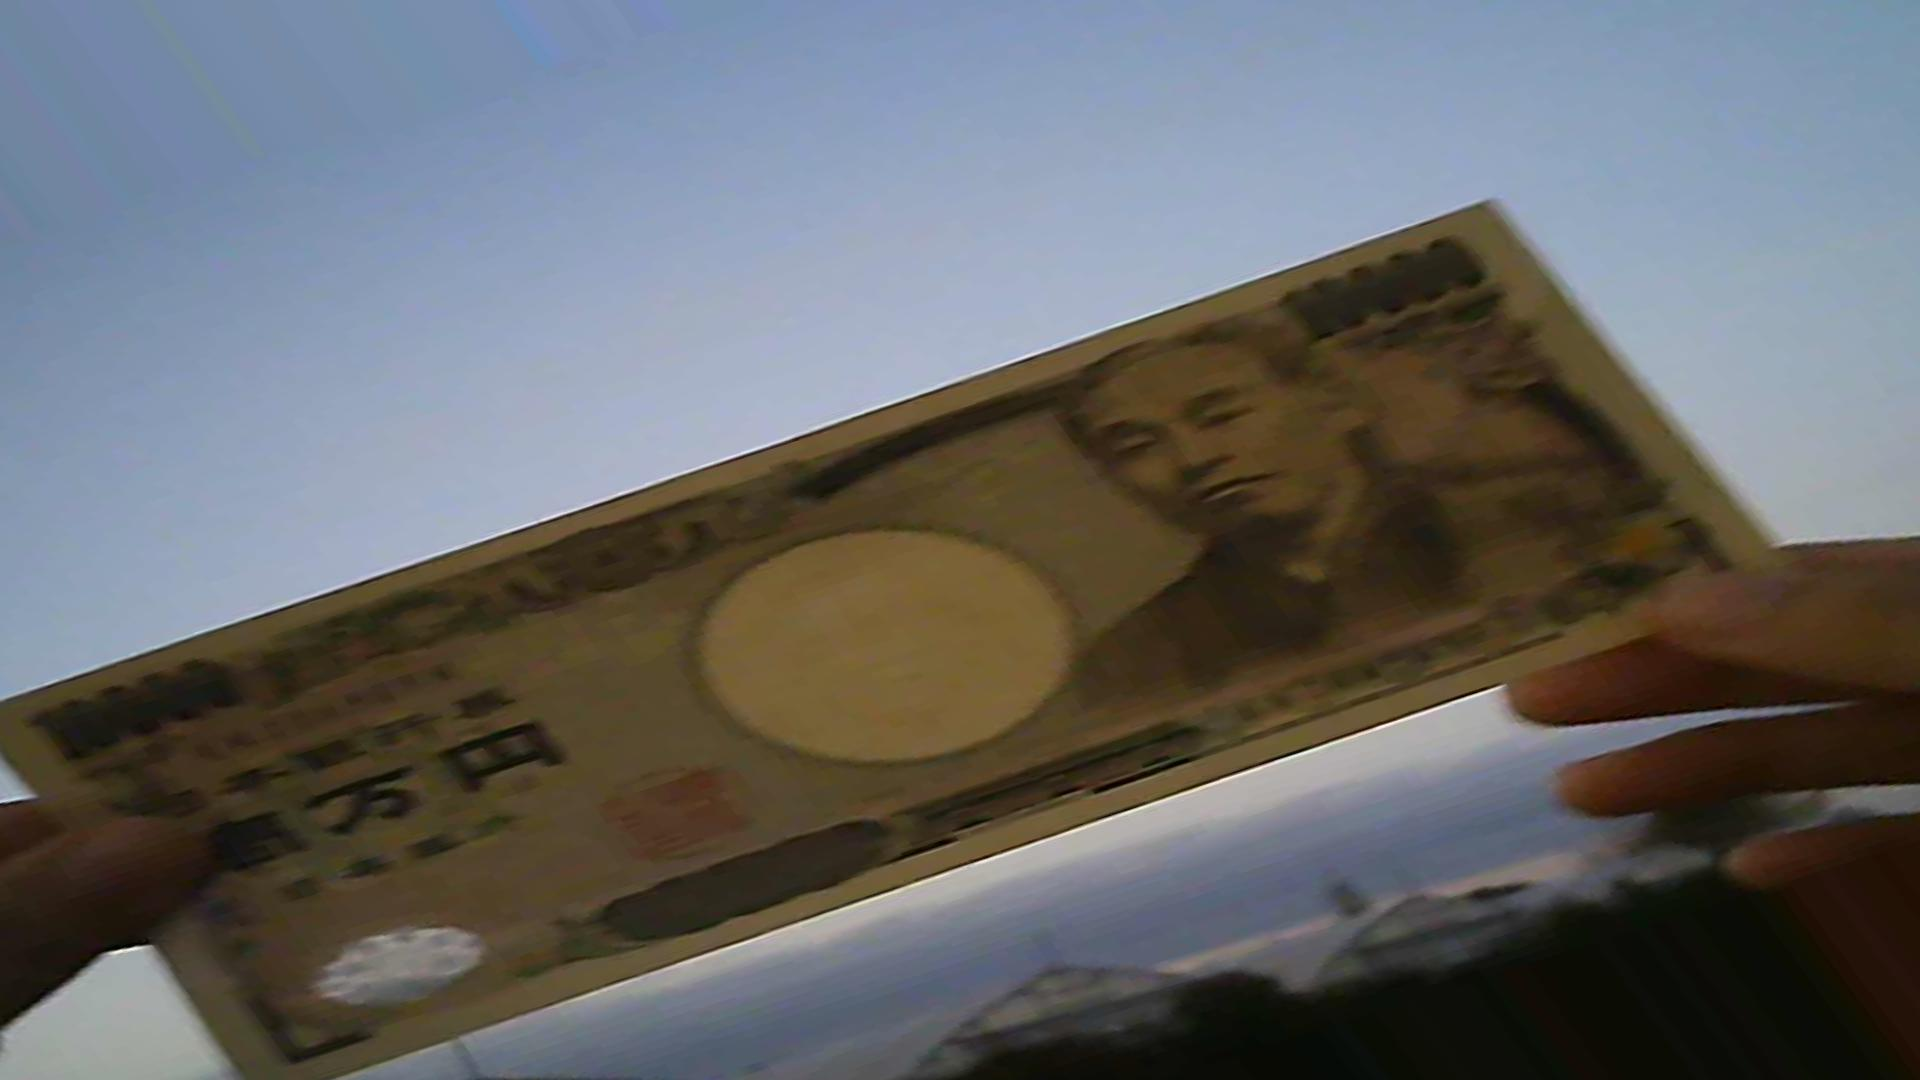10,000 Yen: (47, 185, 1749, 1048)
